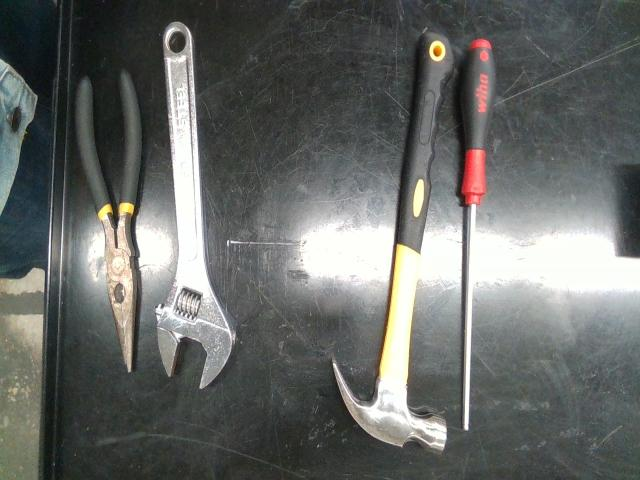Adjustable spanner: (155, 22, 235, 388)
Hammer: (332, 32, 454, 452)
Needle-nose pliers: (75, 70, 141, 371)
Screwdriver: (461, 38, 495, 431)
